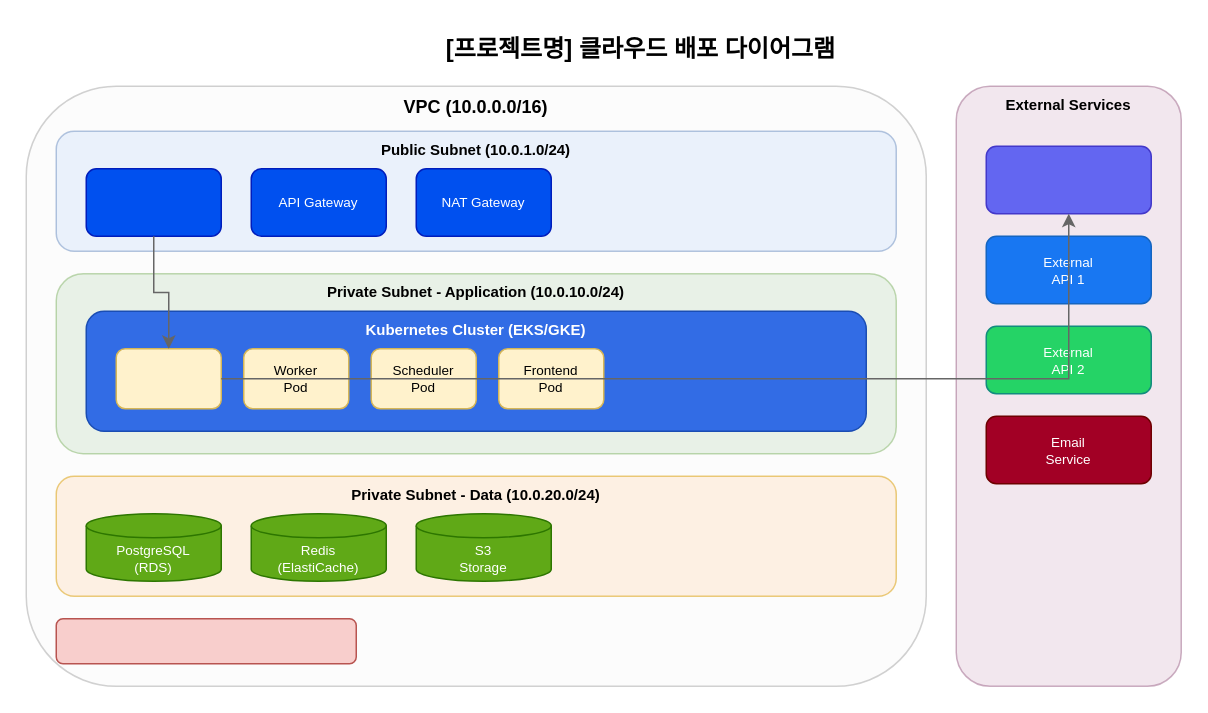
This 1208x713 diagram has some shape labels left out. The centre of each missing label's shape, as x and y in pixels:
API Pod: pixel 168 378
Application Load Balancer: pixel 153 201
LLM API (Claude/OpenAI): pixel 1068 179
Monitoring (Prometheus + Grafana): pixel 205 640
